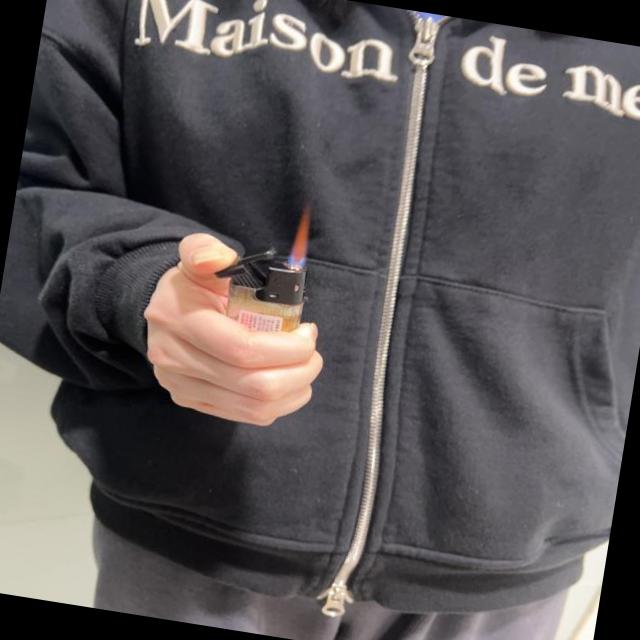Fire: (287, 204, 316, 272)
